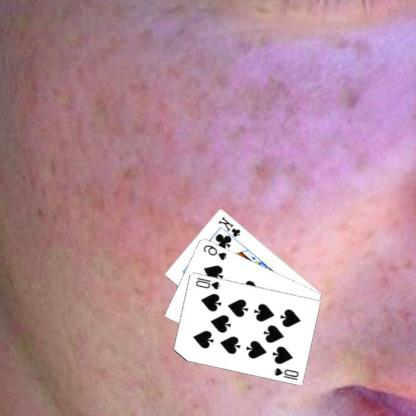10S: (194, 275, 223, 291), (273, 365, 301, 381)
6S: (202, 242, 229, 261)
KC: (217, 214, 243, 243)
